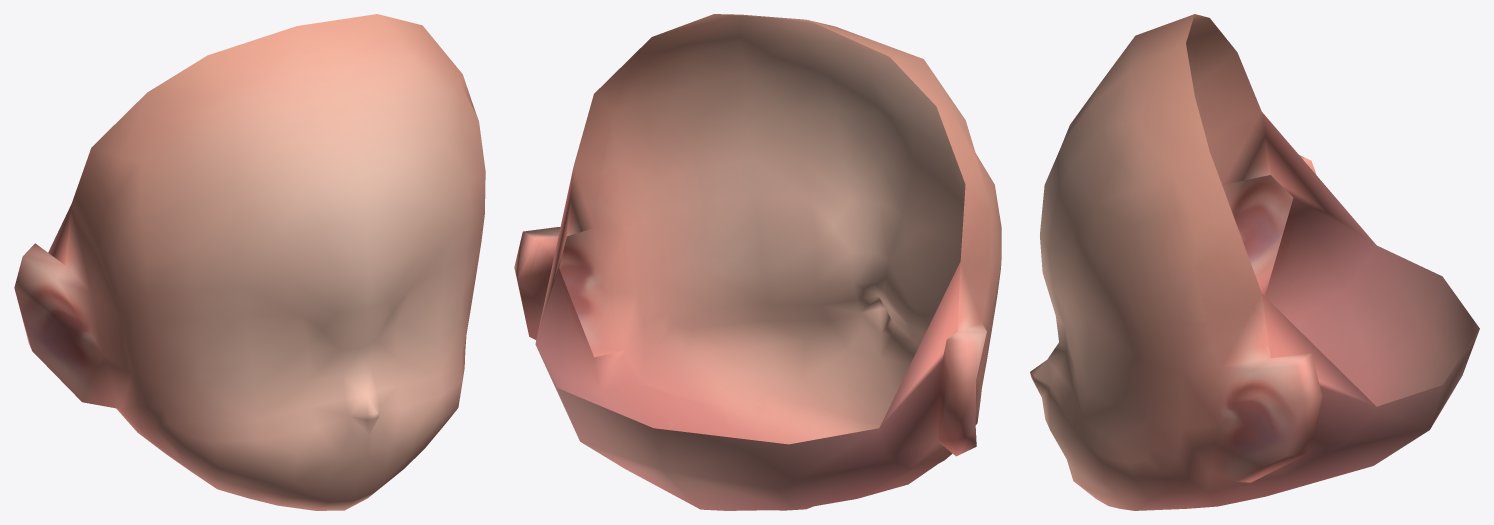
The model's file is face_avatar_BaseA01.FBX.
The picture shows the model from 3 angles, left to right: view 1: azimuth 30°, elevation 25°; view 2: azimuth 150°, elevation 25°; view 3: azimuth 270°, elevation 25°; orthographic projection. The views are drawn at different scales.
Parts seen in each view (by area): view 1: face_avatar_BaseA01; view 2: face_avatar_BaseA01; view 3: face_avatar_BaseA01.
Boxes of the visible parts, left/top/right/bottom form: face_avatar_BaseA01: left=14, top=14, right=485, bottom=510; face_avatar_BaseA01: left=514, top=14, right=1001, bottom=510; face_avatar_BaseA01: left=1030, top=14, right=1479, bottom=510.
Size of the model in its own units: 0.618 by 0.6038 by 0.5421.
